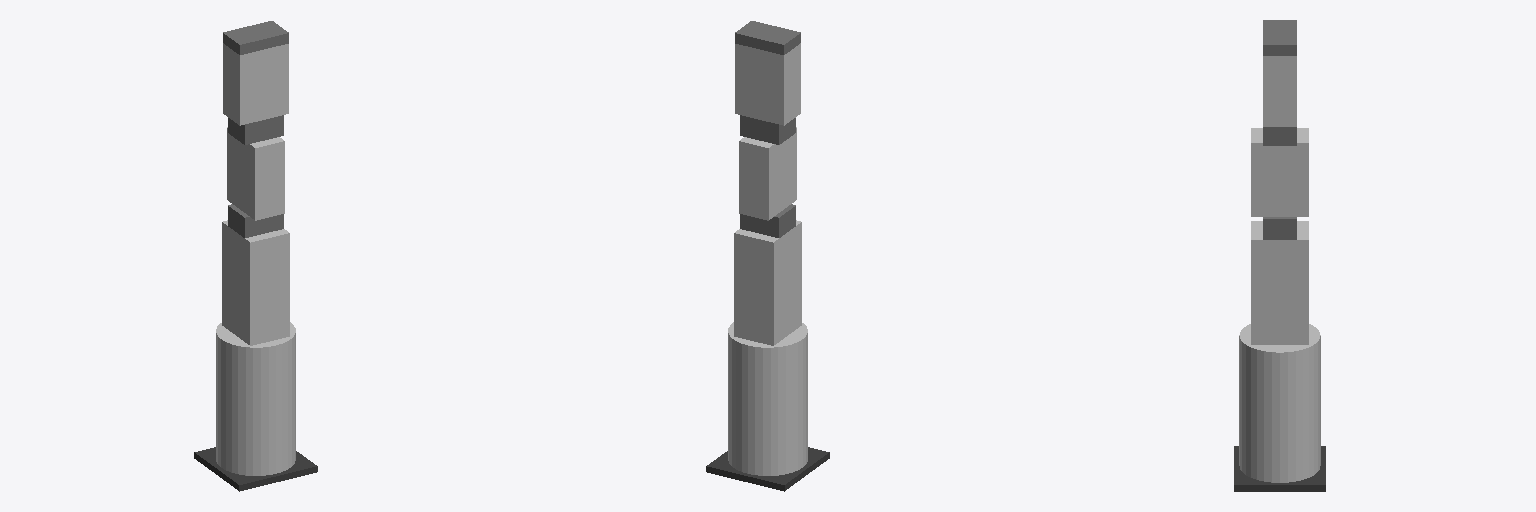
robot.urdf — ve026a:
<?xml version="1.0"?>
<robot name="ve026a">
	<link name="base_link">
		<visual>
			<geometry>
				<box size="0.079 0.079 0.006"/>
			</geometry>
			<origin xyz="0 0 0.003"/>
			<material name="base_link">
	        	<color rgba="0.3 0.3 0.3 1"/>
			</material>
    	</visual>
		<collision>
			<geometry>
			   <box size="0.079 0.079 0.006"/>
		    </geometry>
      	</collision>
      	<inertial>
      		<mass value="0.1"/>
      		<inertia ixx="1.0" ixy="0.0" ixz="0.0" iyy="1.0" iyz="0.0" izz="1.0"/>
    	</inertial>
  	</link>
	
	<link name="link0">
		<visual>
		  	<geometry>
		    	<cylinder length="0.130" radius="0.035"/>
		  	</geometry>
		  	<origin xyz="0 0 0.065"/>
		  	<material name="link">
		    	<color rgba="0.8 0.8 0.8 1"/>
		  	</material>
		</visual>
		<collision>
			<geometry>
			   <cylinder length="0.130" radius="0.035"/>
		    </geometry>
		    <origin xyz="0 0 0.065"/>
      	</collision>
      	<inertial>
      		<mass value="0.1"/>
      		<inertia ixx="1.0" ixy="0.0" ixz="0.0" iyy="1.0" iyz="0.0" izz="1.0"/>
    	</inertial>
	</link>

  	<joint name="J1" type="revolute">
    	<axis xyz="0 0 1"/>
    	<limit effort="1000.0" lower="-1.39626" upper="1.83259" velocity="3.0"/>
    	<origin rpy="0 0 0" xyz="0.0 0.0 0.0"/>
    	<parent link="base_link"/>
    	<child link="link0"/>
  	</joint>
    
	<link name="link1">
    	<visual>
      		<geometry>
				<box size="0.040 0.050 0.100"/>
			</geometry>
			<origin xyz="0 0 0.050"/>
			<material name="link"/>
    	</visual>
    	<collision>
			<geometry>
			   <box size="0.040 0.050 0.100"/>
		    </geometry>
		    <origin xyz="0 0 0.050"/>
      	</collision>
      	<inertial>
      		<mass value="0.1"/>
      		<inertia ixx="1.0" ixy="0.0" ixz="0.0" iyy="1.0" iyz="0.0" izz="1.0"/>
    	</inertial>
  	</link>
  
  	<joint name="J2" type="revolute">
    	<axis xyz="0 1 0"/>
    	<limit effort="1000.0" lower="-0.61086" upper="1.57075" velocity="3.0"/>
    	<origin rpy="0 0 0" xyz="0.0 0.0 0.130"/>
    	<parent link="link0"/>
    	<child link="link1"/>
  	</joint>
  
  	<link name="link2">
    	<visual>
      		<geometry>
				<box size="0.040 0.030 0.020"/>
			</geometry>
			<origin xyz="0 0 0.010"/>
			<material name="joint">
        		<color rgba="0.5 0.5 0.5 1"/>
      		</material>
    	</visual>
    	<collision>
			<geometry>
			   <box size="0.040 0.030 0.020"/>
		    </geometry>
		    <origin xyz="0 0 0.010"/>
      	</collision>
      	<inertial>
      		<mass value="0.1"/>
      		<inertia ixx="1.0" ixy="0.0" ixz="0.0" iyy="1.0" iyz="0.0" izz="1.0"/>
    	</inertial>
  	</link>
 	
 	<joint name="J3" type="revolute">
	    <axis xyz="0 1 0"/>
    	<limit effort="1000.0" lower="-1.30899" upper="2.35619" velocity="3.0"/>
    	<origin rpy="0 0 0" xyz="0.0 0.0 0.100"/>
	    <parent link="link1"/>
    	<child link="link2"/>
	</joint>
	
	<link name="link3">
    	<visual>
    		<geometry>
				<box size="0.030 0.050 0.070"/>
			</geometry>
			<origin xyz="0 0 0.035"/>
			<material name="link"/>
    	</visual>
    	<collision>
				<geometry>
				<box size="0.030 0.050 0.070"/>
			</geometry>
			<origin xyz="0 0 0.035"/>
      	</collision>
      	<inertial>
      		<mass value="0.1"/>
      		<inertia ixx="1.0" ixy="0.0" ixz="0.0" iyy="1.0" iyz="0.0" izz="1.0"/>
    	</inertial>
	</link>
  
	<joint name="J4" type="revolute">
		<axis xyz="0 0 1"/>
		<limit effort="1000.0" lower="-2.44346" upper="2.44346" velocity="3.0"/>
		<origin rpy="0 0 0" xyz="0.0 0.0 0.020"/>
		<parent link="link2"/>
    	<child link="link3"/>
	</joint>
  
	<link name="link4">
		<visual>
			<geometry>
				<box size="0.040 0.030 0.020"/>
			</geometry>
			<origin xyz="0 0 0.010"/>
			<material name="joint"/>
		</visual>
		<collision>
			<geometry>
				<box size="0.040 0.030 0.020"/>
			</geometry>
			<origin xyz="0 0 0.010"/>
      	</collision>
      	<inertial>
      		<mass value="0.1"/>
      		<inertia ixx="1.0" ixy="0.0" ixz="0.0" iyy="1.0" iyz="0.0" izz="1.0"/>
    	</inertial>
	</link>
 	
	<joint name="J5" type="revolute">
		<axis xyz="0 1 0"/>
		<limit effort="1000.0" lower="-1.57075" upper="1.83259" velocity="3.0"/>
		<origin rpy="0 0 0" xyz="0.0 0.0 0.070"/>
		<parent link="link3"/>
		<child link="link4"/>
	</joint>
  
	<link name="link5">
		<visual>
			<geometry>
				<box size="0.050 0.030 0.068"/>
			</geometry>
			<origin xyz="0 0 0.034"/>
			<material name="link"/>
		</visual>
		<collision>
			<geometry>
				<box size="0.050 0.030 0.068"/>
			</geometry>
			<origin xyz="0 0 0.034"/>
      	</collision>
      	<inertial>
      		<mass value="0.1"/>
      		<inertia ixx="1.0" ixy="0.0" ixz="0.0" iyy="1.0" iyz="0.0" izz="1.0"/>
    	</inertial>
	</link>
  
	<joint name="J6" type="revolute">
		<axis xyz="0 0 1"/>
		<limit effort="1000.0" lower="-2.44346" upper="2.44346" velocity="3.0"/>
		<origin rpy="0 0 0" xyz="0.0 0.0 0.020"/>
		<parent link="link4"/>
		<child link="link5"/>
	</joint>

	<link name="link6">
		<visual>
			<geometry>
				<box size="0.050 0.030 0.010"/>
			</geometry>
			<origin xyz="0 0 0.005"/>
			<material name="joint"/>
		</visual>
		<collision>
			<geometry>
				<box size="0.050 0.030 0.010"/>
			</geometry>
			<origin xyz="0 0 0.005"/>
      	</collision>
      	<inertial>
      		<mass value="0.1"/>
      		<inertia ixx="1.0" ixy="0.0" ixz="0.0" iyy="1.0" iyz="0.0" izz="1.0"/>
    	</inertial>
	</link>

	<joint name="J7" type="fixed">
		<axis xyz="0 0 1"/>
		<limit effort="1000.0" lower="-1.30899" upper="0.43633" velocity="3.0"/> 
		<origin rpy="0 0 0" xyz="0.0 0.0 0.068"/>
		<parent link="link5"/>
		<child link="link6"/>
	</joint>
<!--
	<link name="gripper_left">
		<visual>
			<geometry>
				<box size="0.020 0.002 0.030"/>
			</geometry>
			<origin xyz="0 0 0.025"/>
			<material name="gripper">
				<color rgba="0.8 0.8 0.3 1"/>
			</material>
		</visual>
		<collision>
			<geometry>
				<box size="0.020 0.002 0.030"/>
			</geometry>
			<origin xyz="0 0 0.025"/>
      	</collision>
      	<inertial>
      		<mass value="0.1"/>
      		<inertia ixx="1.0" ixy="0.0" ixz="0.0" iyy="1.0" iyz="0.0" izz="1.0"/>
    	</inertial>
	</link>

	<joint name="J7_left" type="prismatic">
		<axis xyz="0 1 0"/>
		<limit effort="1000.0" lower="0.013" upper="0.0215" velocity="3.0"/>
		<origin rpy="0 0 0" xyz="0.0 0.0 0.0"/>
		<parent link="link6"/>
		<child link="gripper_left"/>
	</joint>

	<link name="gripper_right">
		<visual>
			<geometry>
				<box size="0.020 0.002 0.030"/>
			</geometry>
			<origin xyz="0 0 0.025"/>
			<material name="gripper"/>
		</visual>
		<collision>
			<geometry>
				<box size="0.020 0.002 0.030"/>
			</geometry>
			<origin xyz="0 0 0.025"/>
      	</collision>
      	<inertial>
      		<mass value="0.1"/>
      		<inertia ixx="1.0" ixy="0.0" ixz="0.0" iyy="1.0" iyz="0.0" izz="1.0"/>
    	</inertial>
	</link>

	<joint name="J7_right" type="prismatic">
		<axis xyz="0 1 0"/>
		<limit effort="1000.0" lower="-0.013" upper="-0.0215" velocity="3.0"/>
		<origin rpy="0 0 0" xyz="0.0 0.0 0.0"/>
		<parent link="link6"/>
		<child link="gripper_right"/>
	</joint>
-->
</robot>

--- Facts derived from the render (not from the file) ---
The picture shows the robot from 3 angles, left to right: view 1: azimuth 30°, elevation 25°; view 2: azimuth 150°, elevation 25°; view 3: azimuth 270°, elevation 25°; orthographic projection.
Robot: ve026a — 8 links, 7 joints (6 revolute, 1 fixed); root link base_link; default pose: all joints at 0.
Links seen in each view (by area): view 1: link0, link1, link5, link3, base_link, link6, link4, link2; view 2: link0, link1, link5, link3, base_link, link6, link4, link2; view 3: link0, link1, link3, link5, base_link, link6, link2, link4.
Link boxes in pixels (x1,y1,x2,y2): link0: [216, 322, 295, 475]; link1: [222, 220, 289, 345]; link5: [223, 43, 288, 125]; link3: [227, 127, 284, 220]; base_link: [194, 447, 317, 491]; link6: [223, 21, 288, 54]; link4: [228, 115, 283, 144]; link2: [228, 204, 283, 237]; link0: [728, 322, 807, 475]; link1: [734, 220, 801, 345]; link5: [735, 43, 800, 125]; link3: [739, 127, 796, 220]; base_link: [706, 447, 829, 491]; link6: [735, 21, 800, 54]; link4: [740, 115, 795, 144]; link2: [740, 204, 795, 237]; link0: [1239, 324, 1320, 482]; link1: [1251, 221, 1308, 344]; link3: [1251, 128, 1308, 216]; link5: [1263, 56, 1296, 126]; base_link: [1234, 446, 1325, 491]; link6: [1263, 20, 1296, 55]; link2: [1263, 217, 1296, 239]; link4: [1263, 127, 1296, 145].
Bounding box of the posed robot: 0.079 × 0.079 × 0.418 m (x, y, z).
Geometry: primitives only (box / cylinder / sphere), no mesh files.
